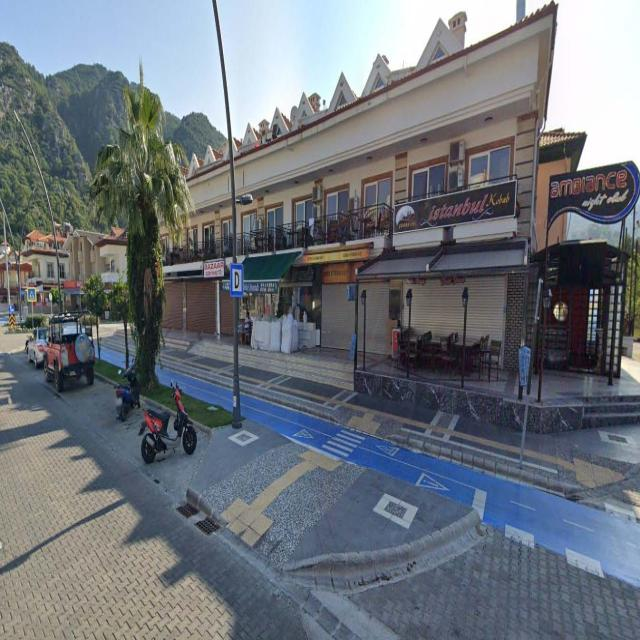durak: (230, 264, 244, 296)
